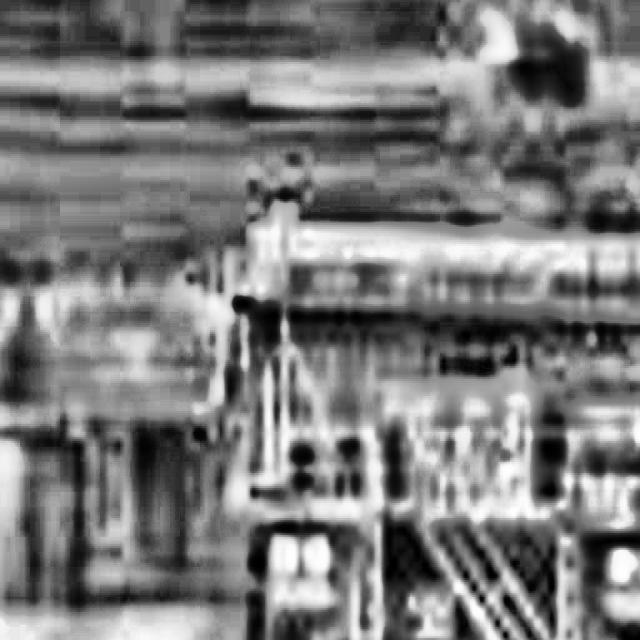dump_truck: (217, 178, 640, 639)
